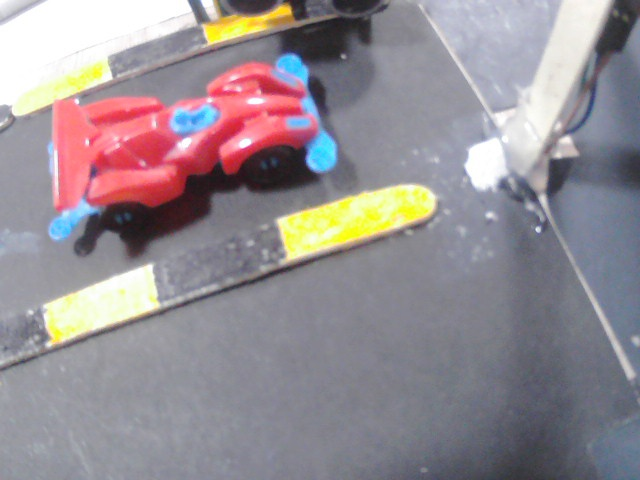car: (36, 48, 340, 236)
